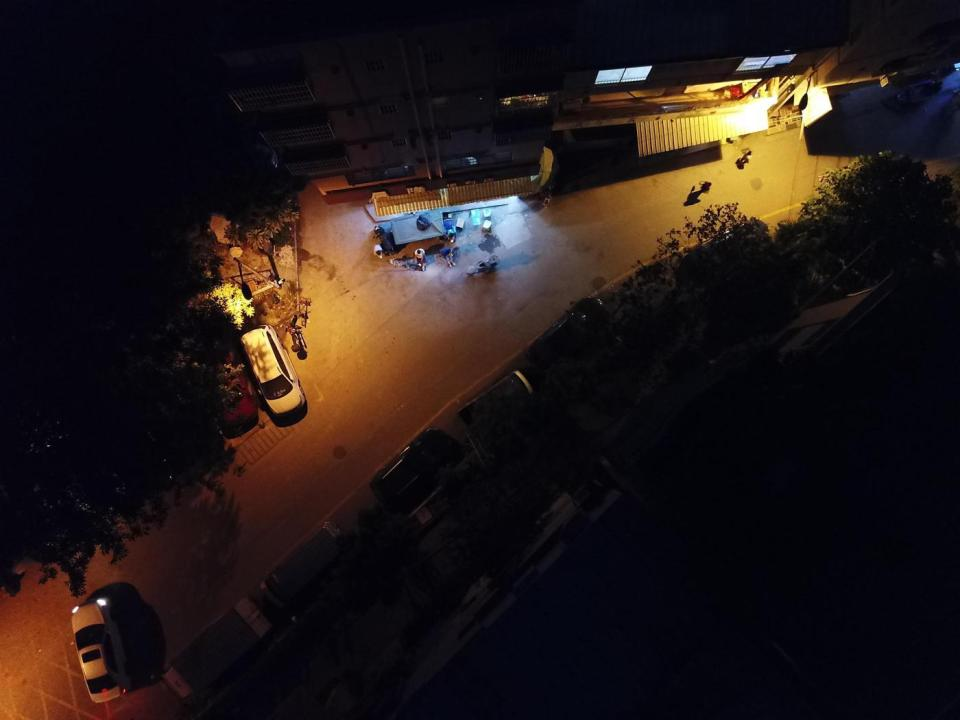car: (368, 427, 464, 514), (71, 596, 133, 704), (678, 221, 771, 293), (527, 295, 609, 376), (457, 368, 534, 438), (210, 350, 259, 436)
van: (160, 595, 274, 704), (260, 519, 347, 607), (239, 323, 306, 415)
